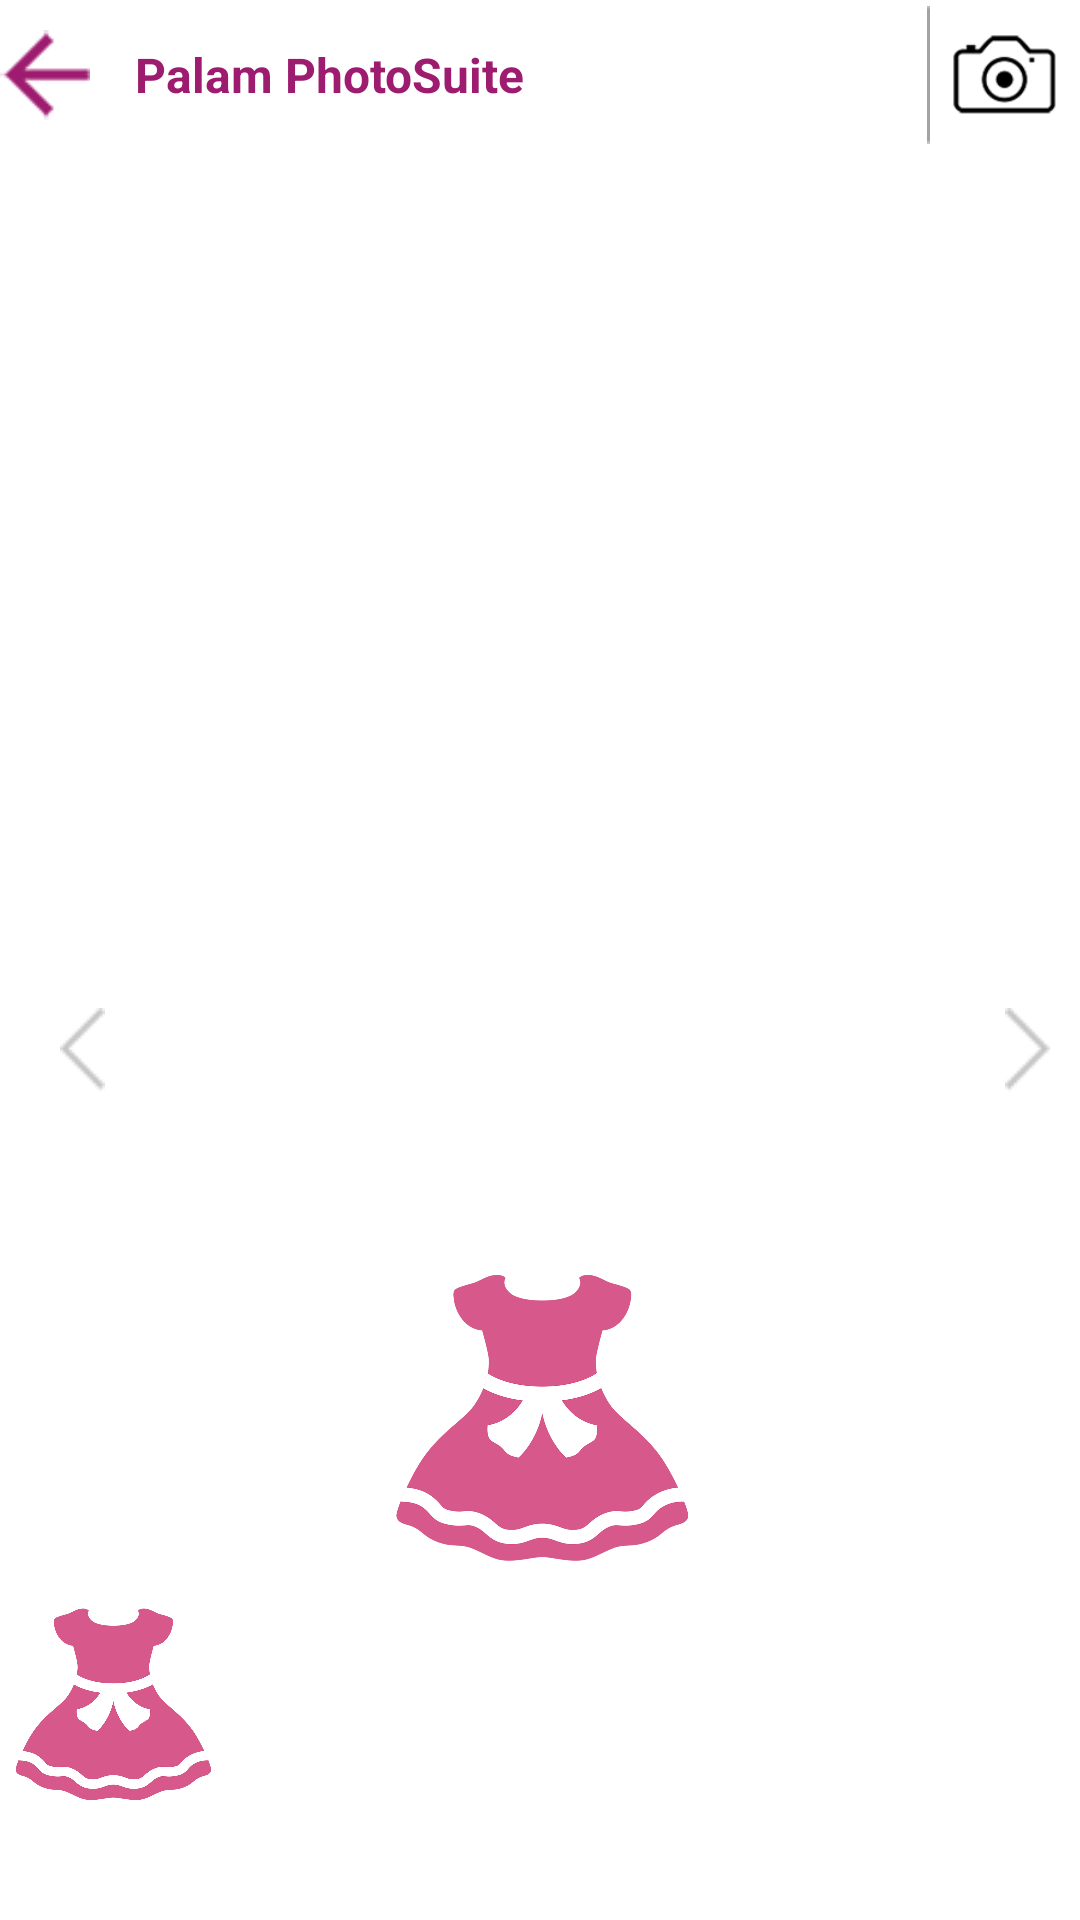

Icon click points for this 1080×1920 phone screenshot, format point (x, y):
back custom: point (45, 74)
btnleftarrow: point (82, 1048)
btnrightarrow: point (1027, 1048)
camera: point (1004, 74)
